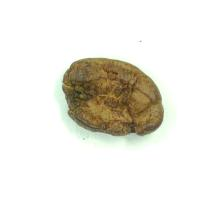NG: (62, 59, 162, 137)
